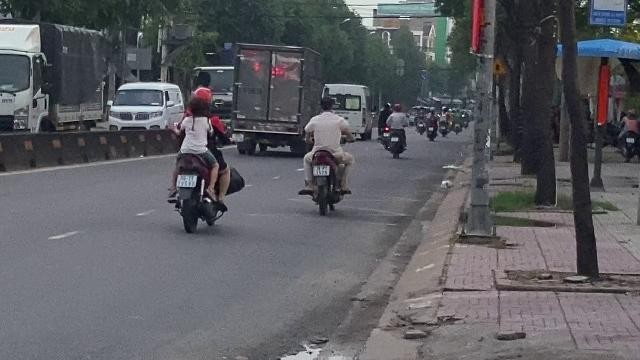helmet: (192, 88, 214, 100)
licenseplate: (177, 174, 196, 186), (313, 166, 329, 176)
motorcyclist: (165, 86, 235, 232), (298, 96, 354, 214)
nohelmet: (187, 98, 210, 127), (318, 96, 334, 112)
